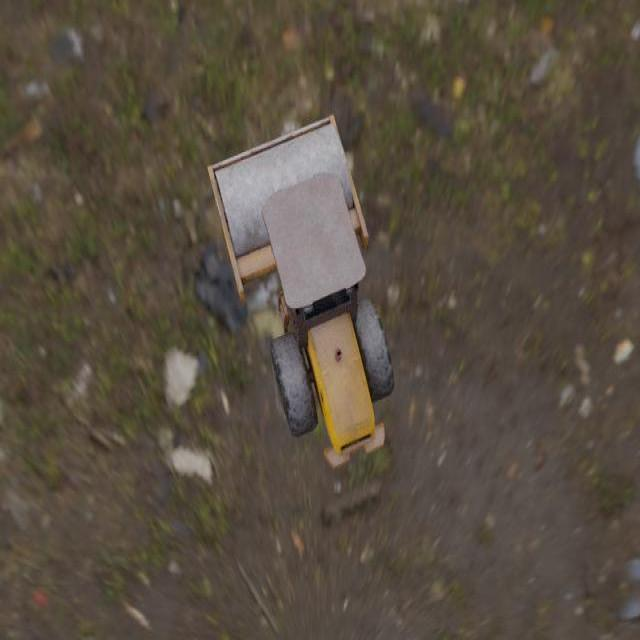Roller: (207, 113, 394, 470)
